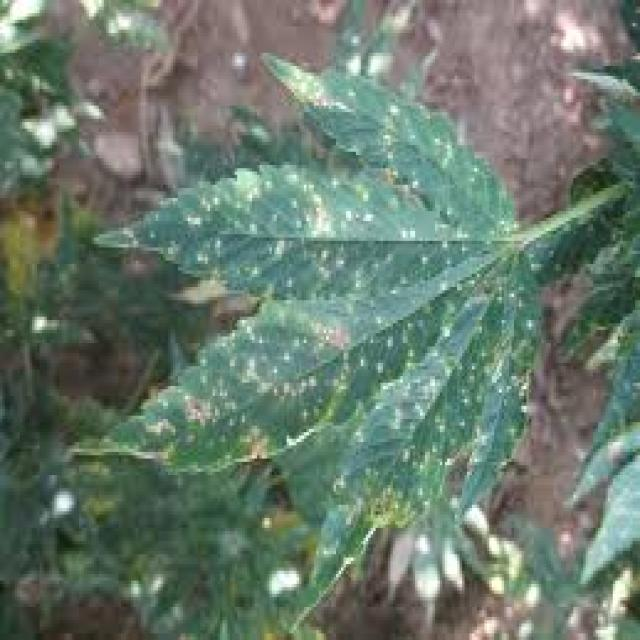leaf_spot: (120, 70, 522, 550)
